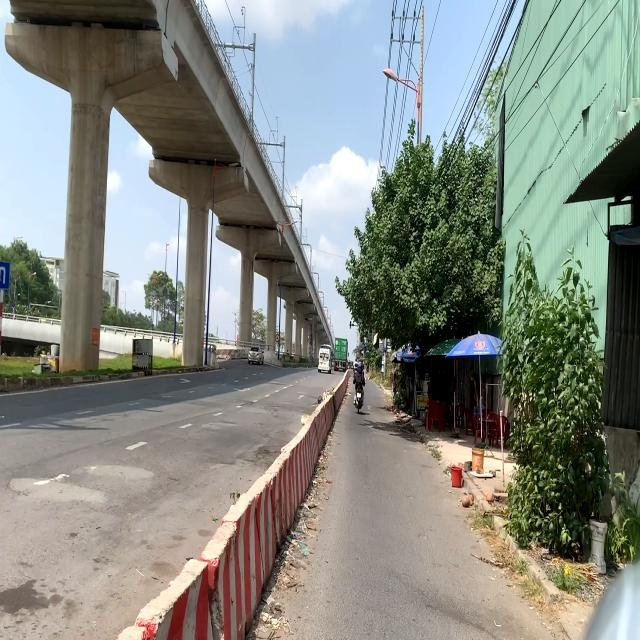bien_cam: (275, 333, 280, 343)
